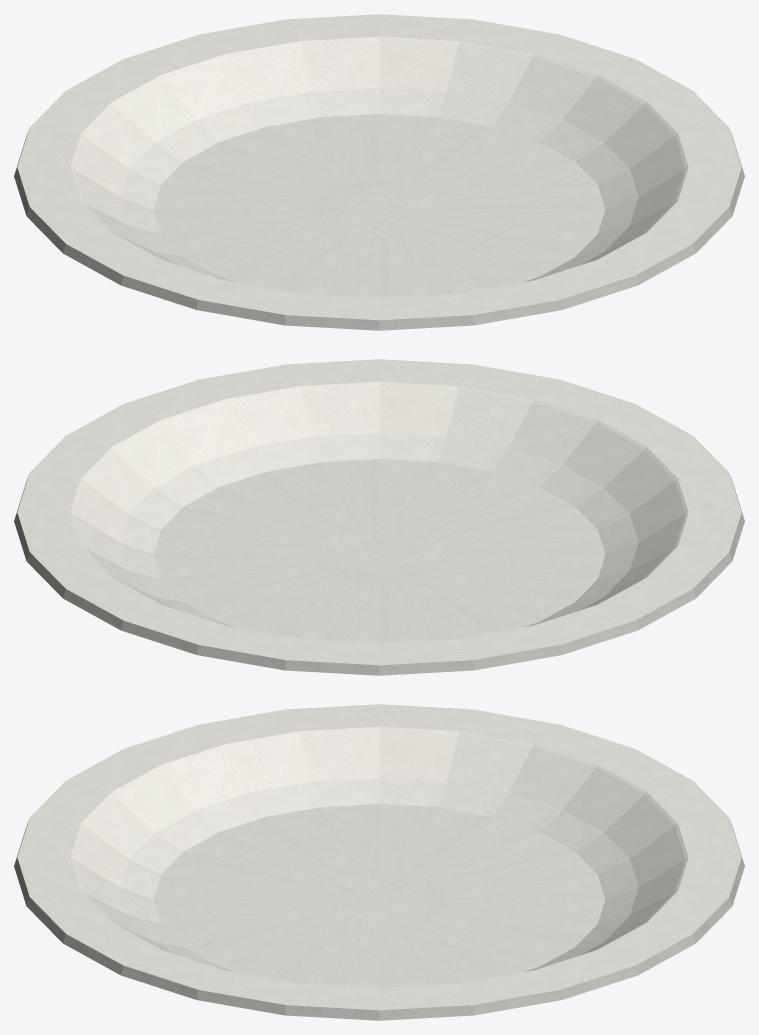
File: plate.glb
The picture shows the model from 3 angles, top to bottom: view 1: azimuth 30°, elevation 25°; view 2: azimuth 150°, elevation 25°; view 3: azimuth 270°, elevation 25°; orthographic projection.
Visible parts, largest first — view 1: home_plate; view 2: home_plate; view 3: home_plate.
Part boxes in pixels (x1,y1,x2,y2): home_plate: [14, 14, 744, 330]; home_plate: [14, 359, 744, 675]; home_plate: [14, 704, 744, 1020].
Bounding box in the file's own units: 0.22 × 0.022 × 0.22.
1 material, 1 textured.
